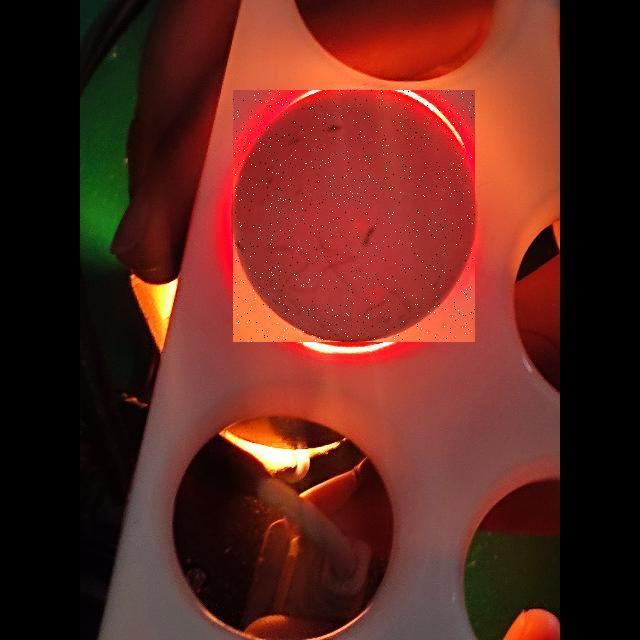A - Good: (238, 88, 479, 343)
